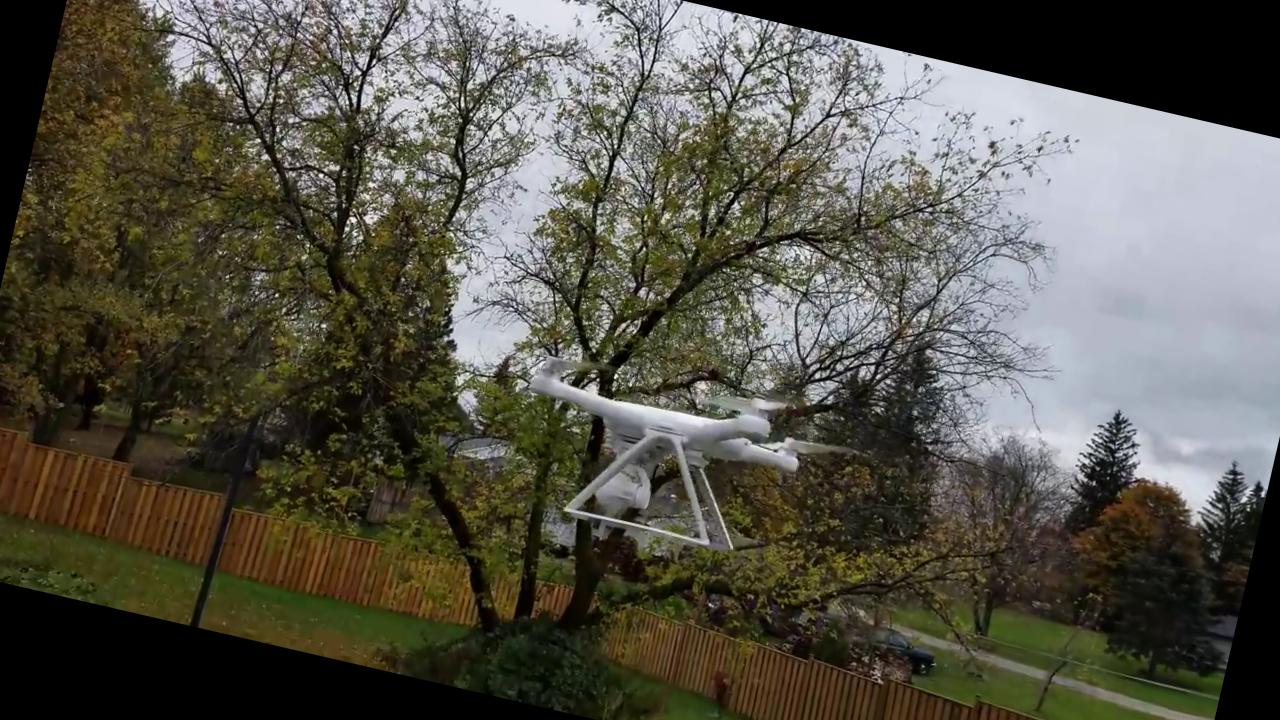drone: (462, 316, 868, 551)
